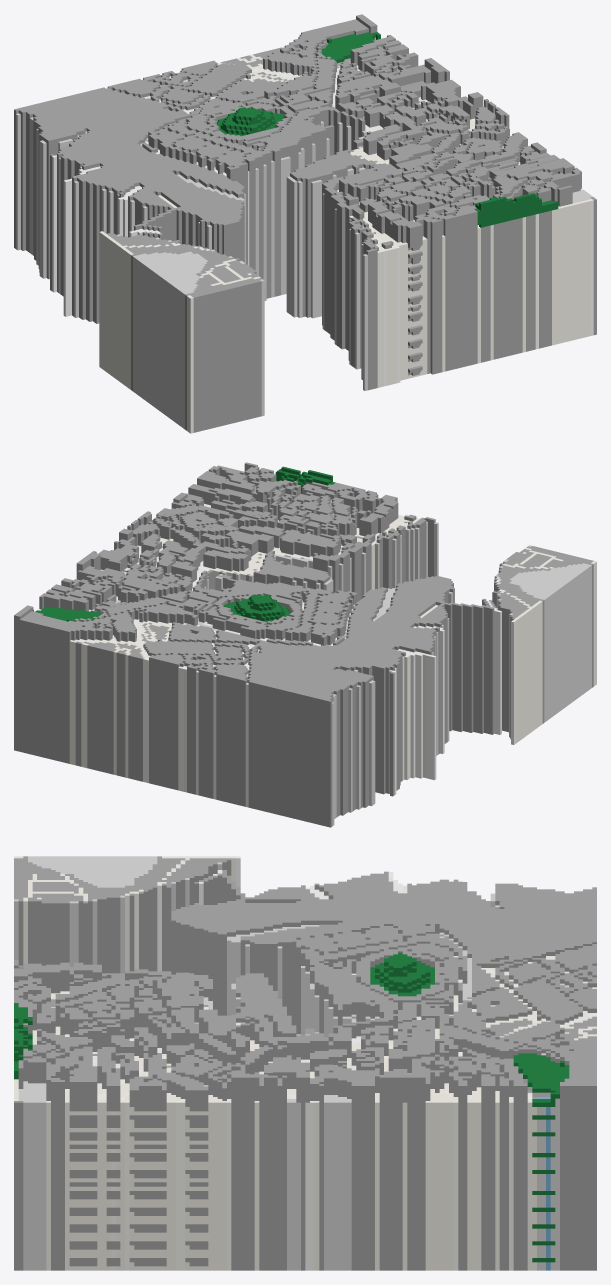
Rendered from 200607 macau ver4-3.obj.
3 views of the same model, one above another, from view 1: azimuth 30°, elevation 25°; view 2: azimuth 150°, elevation 25°; view 3: azimuth 270°, elevation 25° (orthographic). The views are drawn at different scales.
Size of the model in its own units: 12.6 by 4.7 by 12.6.
Materials: 1 (1 with a texture image).
